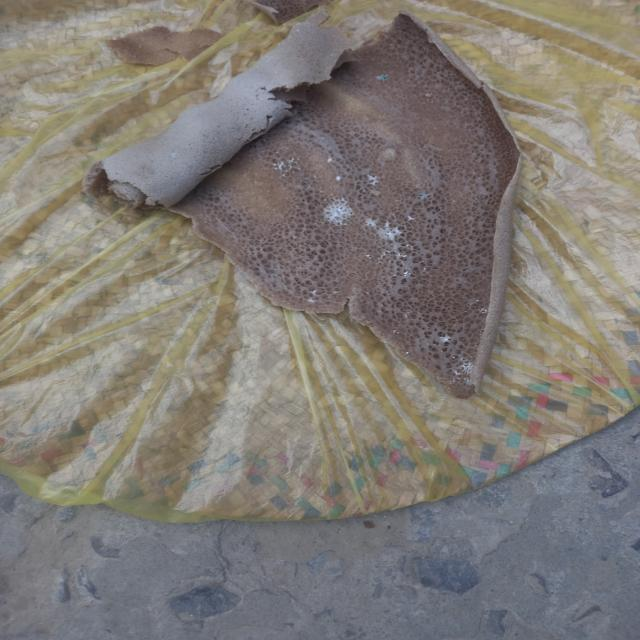injera_mold: (370, 247, 419, 277), (365, 216, 405, 243), (320, 198, 358, 226), (272, 155, 304, 175), (455, 354, 471, 381), (305, 289, 324, 305), (362, 172, 383, 186), (412, 192, 436, 203), (478, 306, 496, 319), (374, 73, 396, 83), (440, 333, 453, 346), (322, 157, 337, 165), (168, 152, 182, 160), (332, 174, 344, 183), (420, 261, 428, 274), (470, 298, 487, 304), (392, 328, 402, 338), (408, 213, 416, 225), (364, 252, 373, 262), (329, 290, 343, 296), (305, 20, 312, 31), (402, 312, 409, 319), (294, 30, 302, 36), (313, 174, 319, 181), (406, 350, 409, 356)
